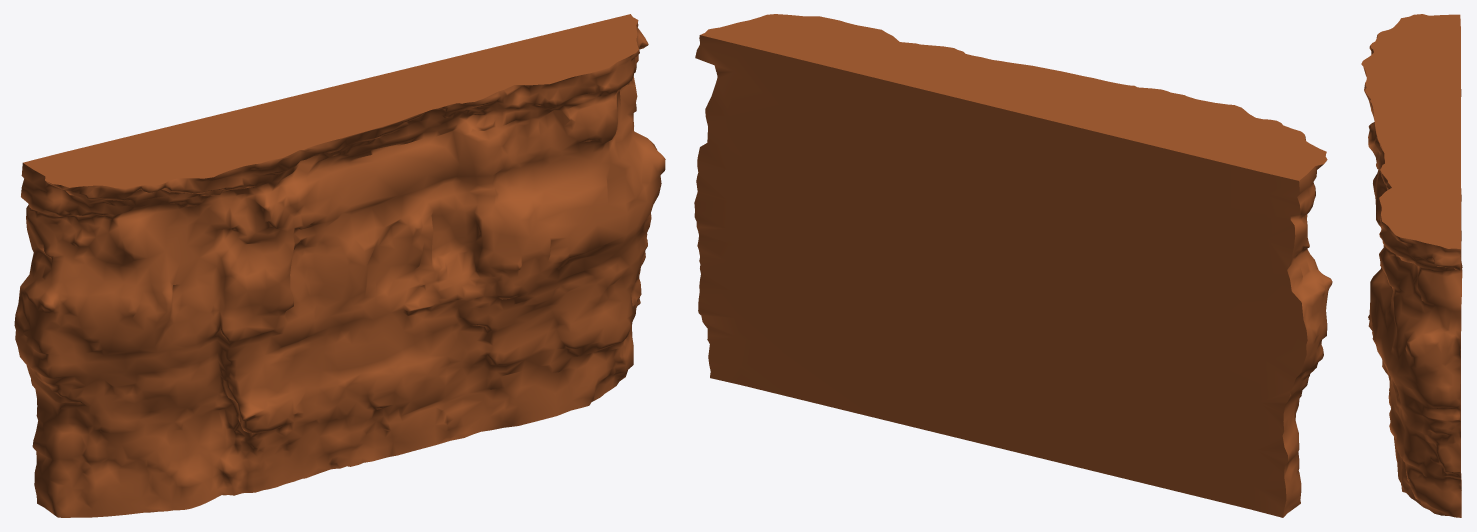
The model's file is MSH_Rocks_Cliff_25_a.FBX.
3 renders of one model, left to right at view 1: azimuth 30°, elevation 25°; view 2: azimuth 150°, elevation 25°; view 3: azimuth 270°, elevation 25°, orthographic. The views are drawn at different scales.
Parts seen in each view (by area): view 1: MESH_LOD0, CAP_LOD0; view 2: CAP_LOD0, MESH_LOD0; view 3: MESH_LOD0, CAP_LOD0.
Part boxes in pixels (box(x1,y1,x2,y2)): MESH_LOD0: box(14, 20, 665, 517); CAP_LOD0: box(23, 14, 638, 188); CAP_LOD0: box(694, 14, 1327, 517); MESH_LOD0: box(707, 77, 1332, 517); MESH_LOD0: box(1362, 34, 1462, 517); CAP_LOD0: box(1361, 14, 1461, 482).
Size of what is drawn, in the model's own units: 1254 by 661 by 222.
